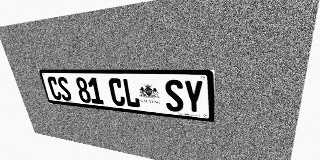1: (86, 77, 104, 104)
8: (75, 77, 92, 103)
C: (108, 78, 126, 107), (46, 76, 63, 100)
L: (122, 78, 141, 108)
S: (164, 79, 184, 112), (56, 77, 73, 101)
Y: (183, 80, 204, 114)
